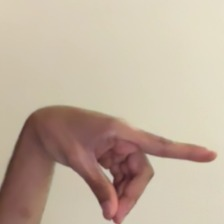P: (16, 95, 221, 224)
